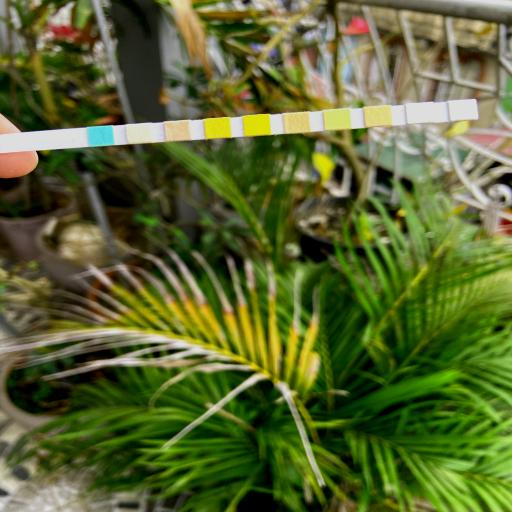Bilirubin: (126, 125, 152, 143)
Blood: (244, 116, 270, 134)
Glucose: (88, 128, 114, 146)
Ketone: (165, 122, 191, 140)
Leukocytes: (450, 101, 476, 119)
Nitrite: (406, 104, 432, 122)
Protein: (324, 110, 350, 128)
SpGravity: (204, 120, 230, 138)
Urobilinogen: (364, 107, 390, 125)
pH: (284, 114, 310, 132)
strip: (0, 99, 479, 154)
